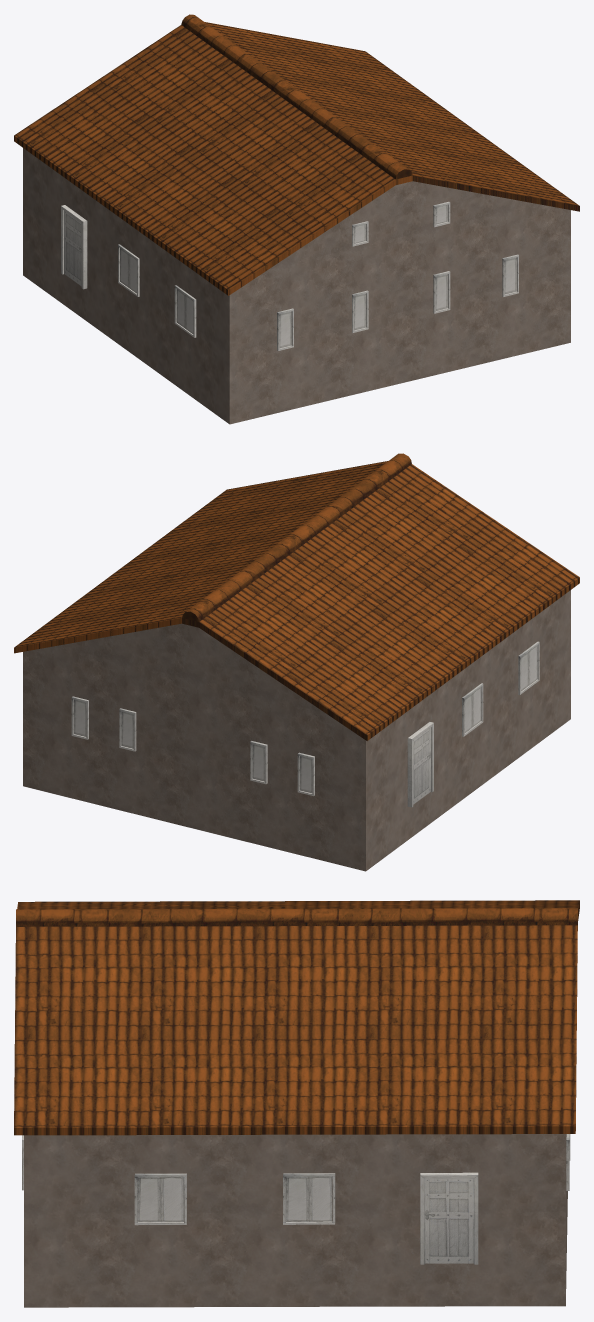
The model's file is Casa_15.fbx.
The picture shows the model from 3 angles, top to bottom: view 1: azimuth 30°, elevation 25°; view 2: azimuth 150°, elevation 25°; view 3: azimuth 270°, elevation 25°; orthographic projection. The views are drawn at different scales.
Parts seen in each view (by area): view 1: Casa_15; view 2: Casa_15; view 3: Casa_15.
Boxes of the visible parts, x1,y1,x2,y2 form: Casa_15: (14, 14, 579, 424); Casa_15: (14, 453, 579, 871); Casa_15: (14, 900, 579, 1307).
Size of the model in its own units: 10.95 by 6.45 by 11.51.
